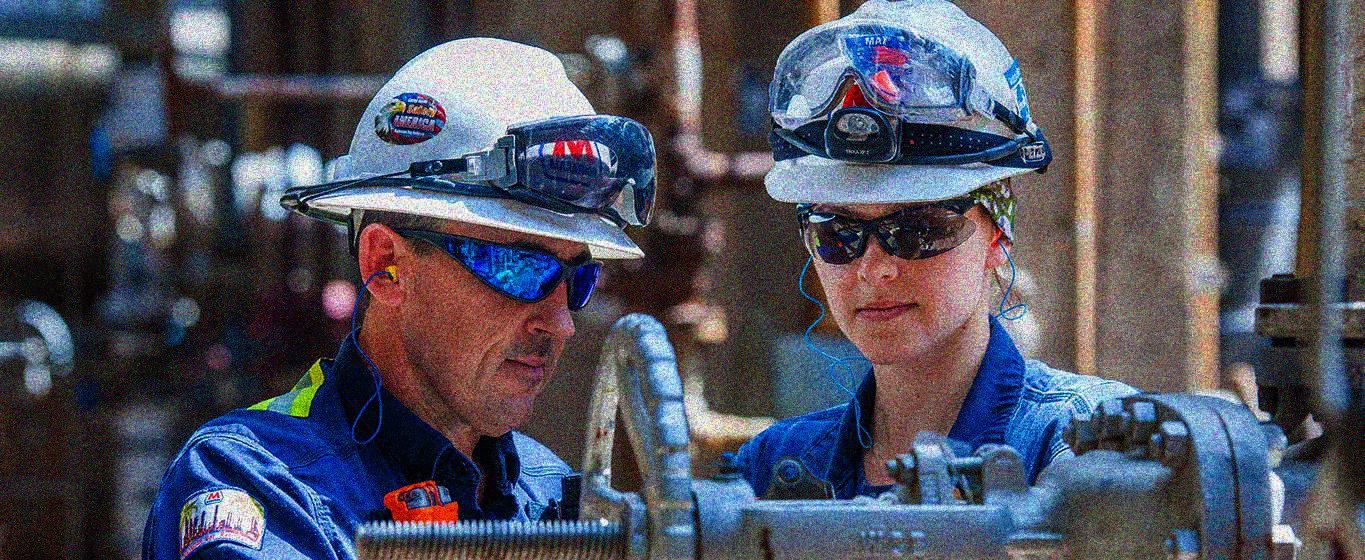helmet: (299, 37, 652, 433), (762, 1, 1041, 360)
